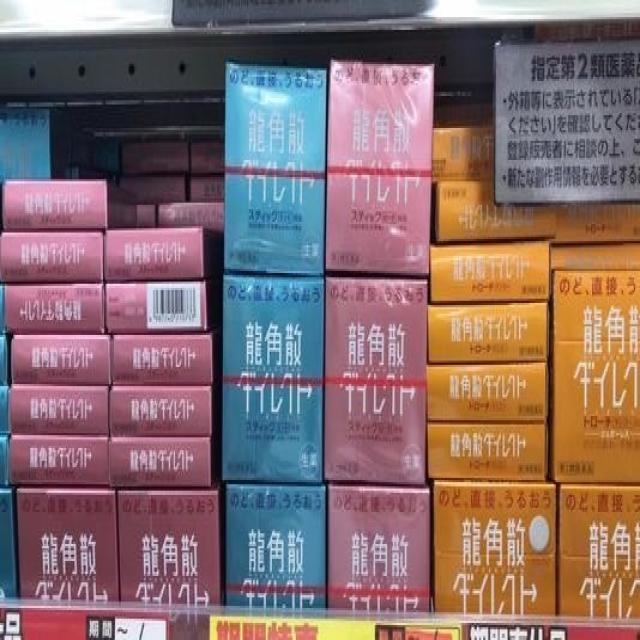box: (325, 58, 435, 271), (325, 277, 428, 484), (224, 64, 326, 273), (223, 271, 324, 482), (551, 271, 640, 486), (434, 480, 556, 614), (227, 480, 325, 619), (327, 484, 430, 612), (119, 482, 222, 606), (18, 489, 119, 602), (559, 486, 640, 619), (430, 239, 550, 303), (427, 301, 549, 363), (428, 422, 547, 482), (434, 183, 556, 241), (425, 363, 547, 420), (2, 179, 137, 230), (0, 230, 105, 286), (104, 279, 210, 333), (105, 226, 206, 282), (8, 386, 109, 442), (10, 333, 109, 388), (109, 386, 211, 439), (111, 333, 213, 386), (110, 437, 211, 489), (10, 437, 110, 489), (0, 109, 70, 181), (5, 284, 105, 333), (550, 205, 640, 245), (431, 128, 495, 183), (550, 239, 640, 269), (120, 175, 186, 205), (121, 145, 188, 173), (0, 489, 17, 599), (159, 201, 223, 226), (188, 143, 224, 179), (192, 175, 224, 201), (0, 388, 8, 442), (135, 205, 153, 228), (0, 435, 8, 486), (0, 335, 8, 386)
